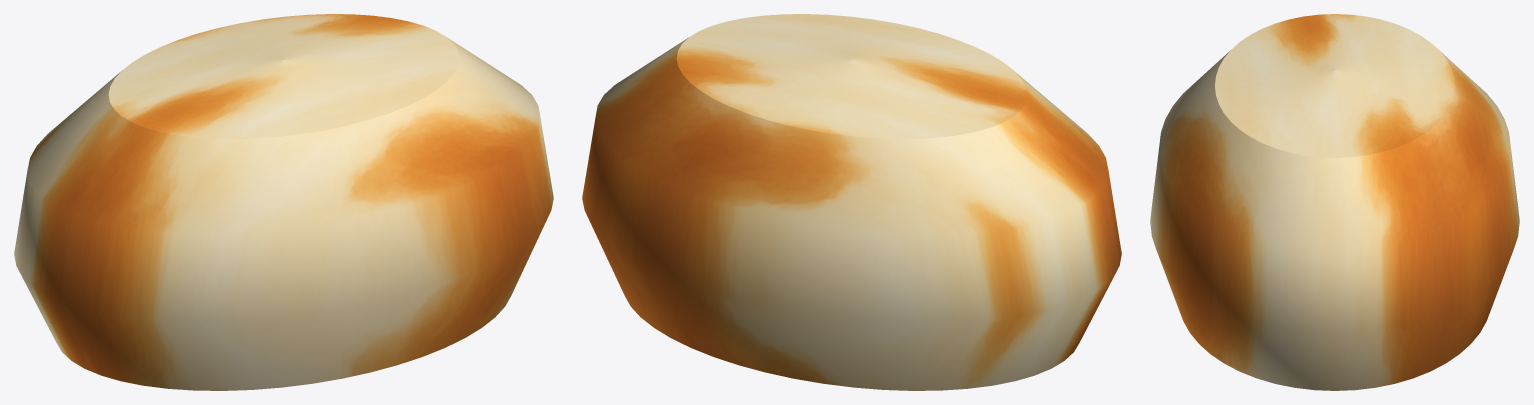
The model's file is cowrie_shell-DAfJpXFd.glb.
The picture shows the model from 3 angles, left to right: view 1: azimuth 30°, elevation 25°; view 2: azimuth 150°, elevation 25°; view 3: azimuth 270°, elevation 25°; orthographic projection. The views are drawn at different scales.
Visible parts, largest first — view 1: HI_cowrie_shell; view 2: HI_cowrie_shell; view 3: HI_cowrie_shell.
Boxes of the visible parts, x1,y1,x2,y2 form: HI_cowrie_shell: (14, 14, 553, 390); HI_cowrie_shell: (582, 14, 1121, 390); HI_cowrie_shell: (1150, 14, 1519, 390).
Bounding box in the file's own units: 0.34 × 0.18 × 0.24.
Materials: 1 (1 with a texture image).
